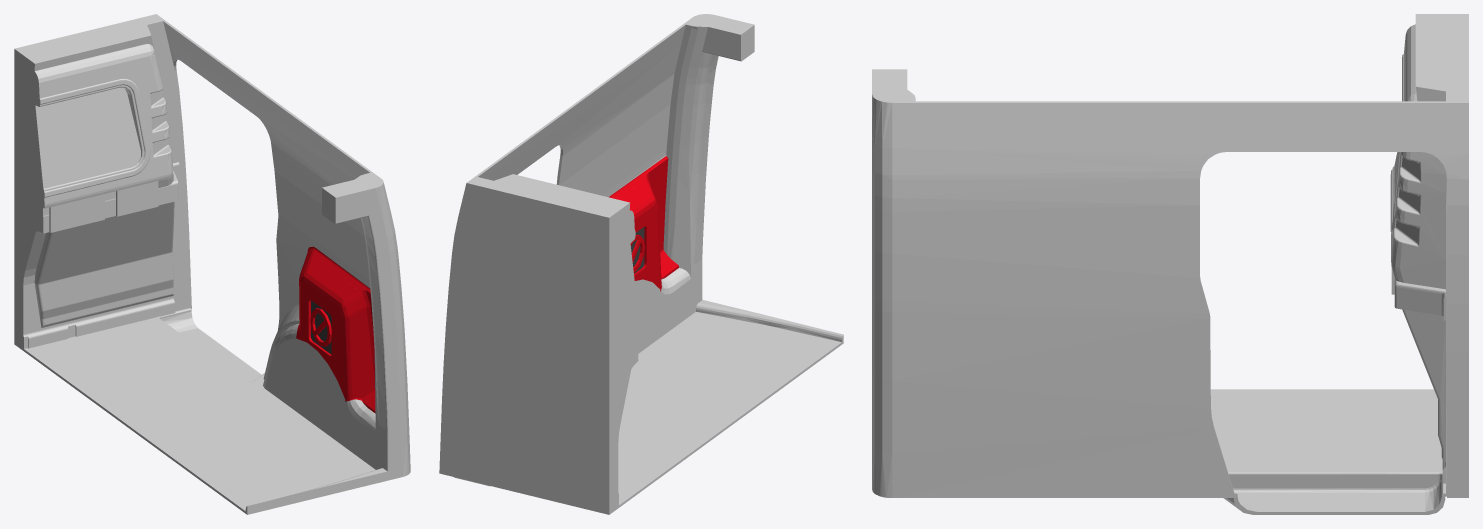
Rendered from Volkswagen_Caddy_VW31_2021-_R_D.glb.
The picture shows the model from 3 angles, left to right: view 1: azimuth 30°, elevation 25°; view 2: azimuth 150°, elevation 25°; view 3: azimuth 270°, elevation 25°; orthographic projection. The views are drawn at different scales.
Visible parts, largest first — view 1: VW31_R_D; view 2: VW31_R_D; view 3: VW31_R_D.
Part boxes in pixels (x1,y1,x2,y2): VW31_R_D: (14,14,410,514); VW31_R_D: (439,14,843,514); VW31_R_D: (872,14,1468,514).
Bounding box in the file's own units: 742 × 1300 × 1772.
